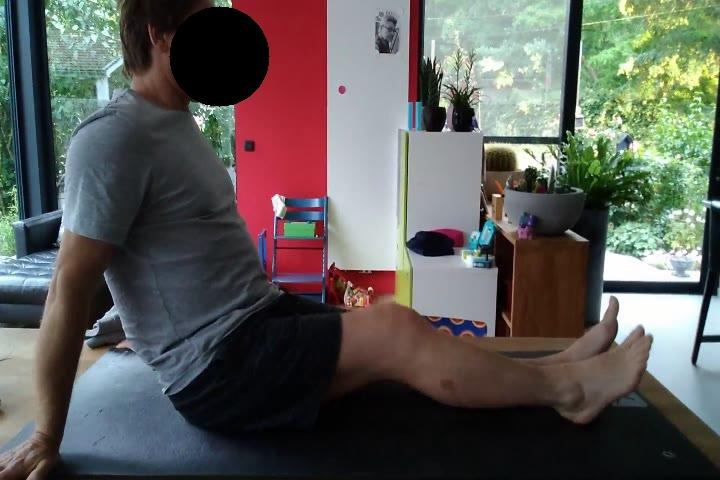lower_body: (170, 292, 657, 430)
